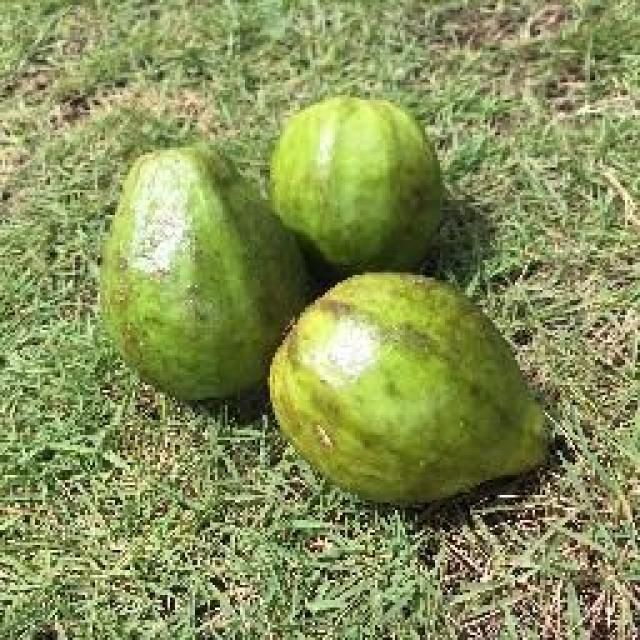Good_Guava: (98, 142, 318, 405), (268, 98, 445, 275)
